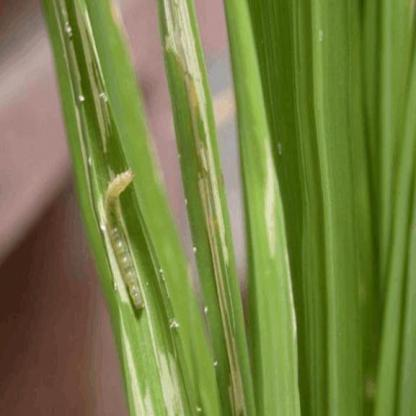leaf-folder: (74, 158, 174, 328)
